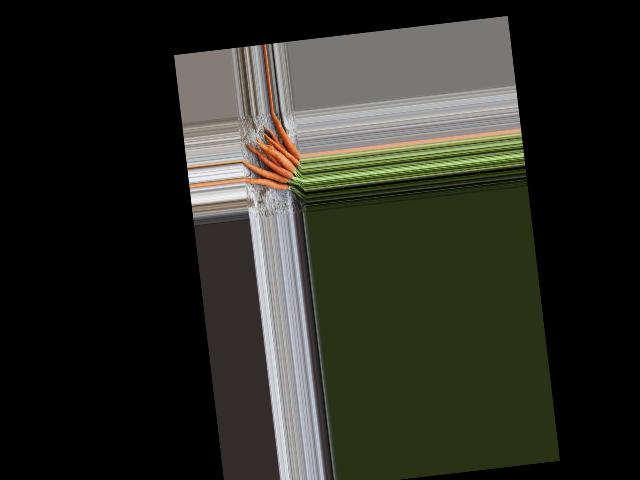carrot: (269, 110, 300, 165)
